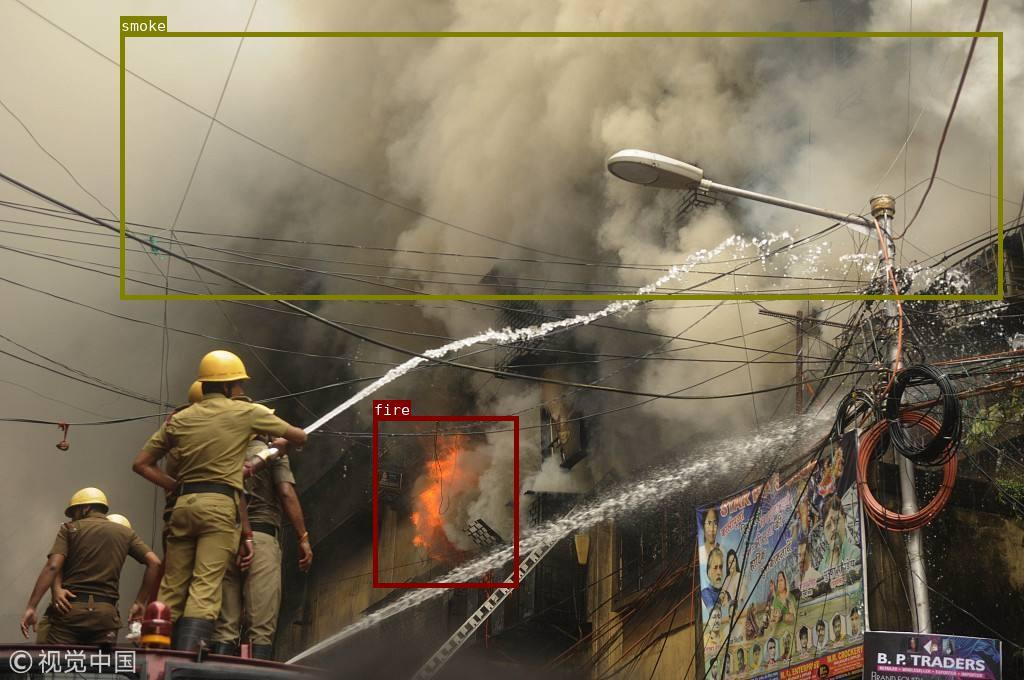fire: (372, 416, 518, 587)
smoke: (119, 32, 1002, 298)
